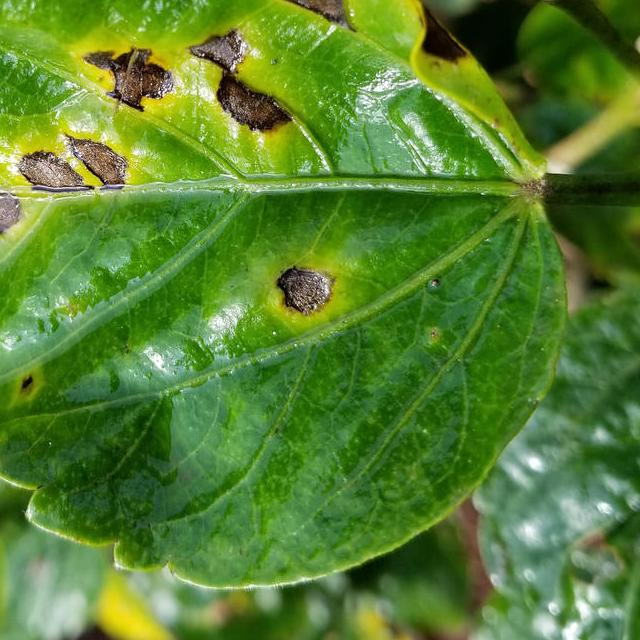Tomato leaf bacterial spot: (0, 0, 565, 601)
